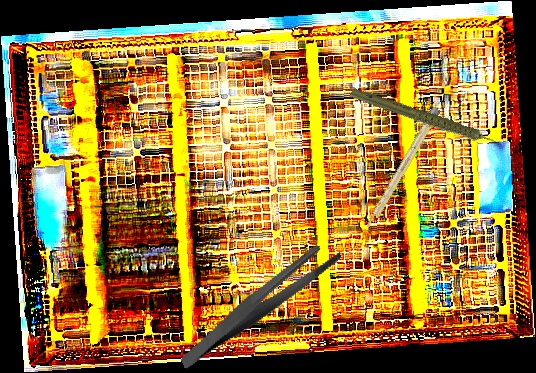Dressing Forceps: (160, 238, 359, 370)
Handpiece: (348, 59, 504, 182)
Scalpel Handle: (363, 106, 441, 233)
